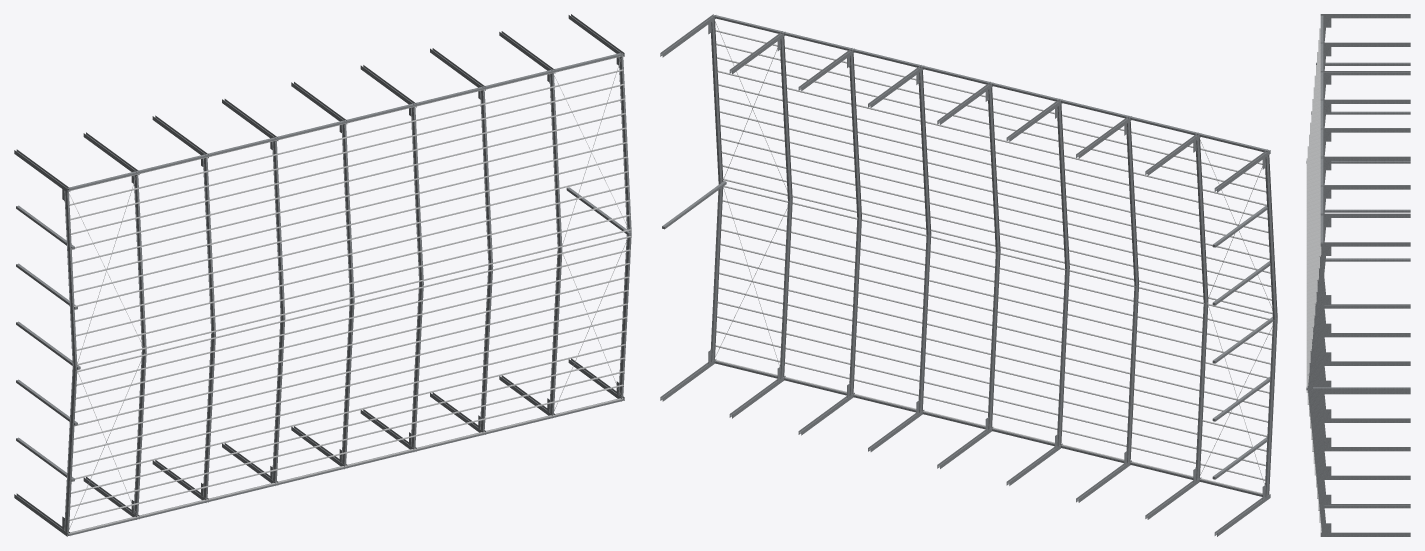
Rendered from structure.gltf.
3 views of the same model, side by side, from view 1: azimuth 30°, elevation 25°; view 2: azimuth 150°, elevation 25°; view 3: azimuth 270°, elevation 25° (orthographic). The views are drawn at different scales.
Parts seen in each view (by area): view 1: structure; view 2: structure; view 3: structure.
Boxes of the visible parts, x1=… form: structure: x1=14, y1=14, x2=631, y2=536; structure: x1=660, y1=14, x2=1277, y2=536; structure: x1=1306, y1=14, x2=1410, y2=536.
Size of the model in its own units: 60.3 by 36 by 11.6.
2 materials, 2 textured.
